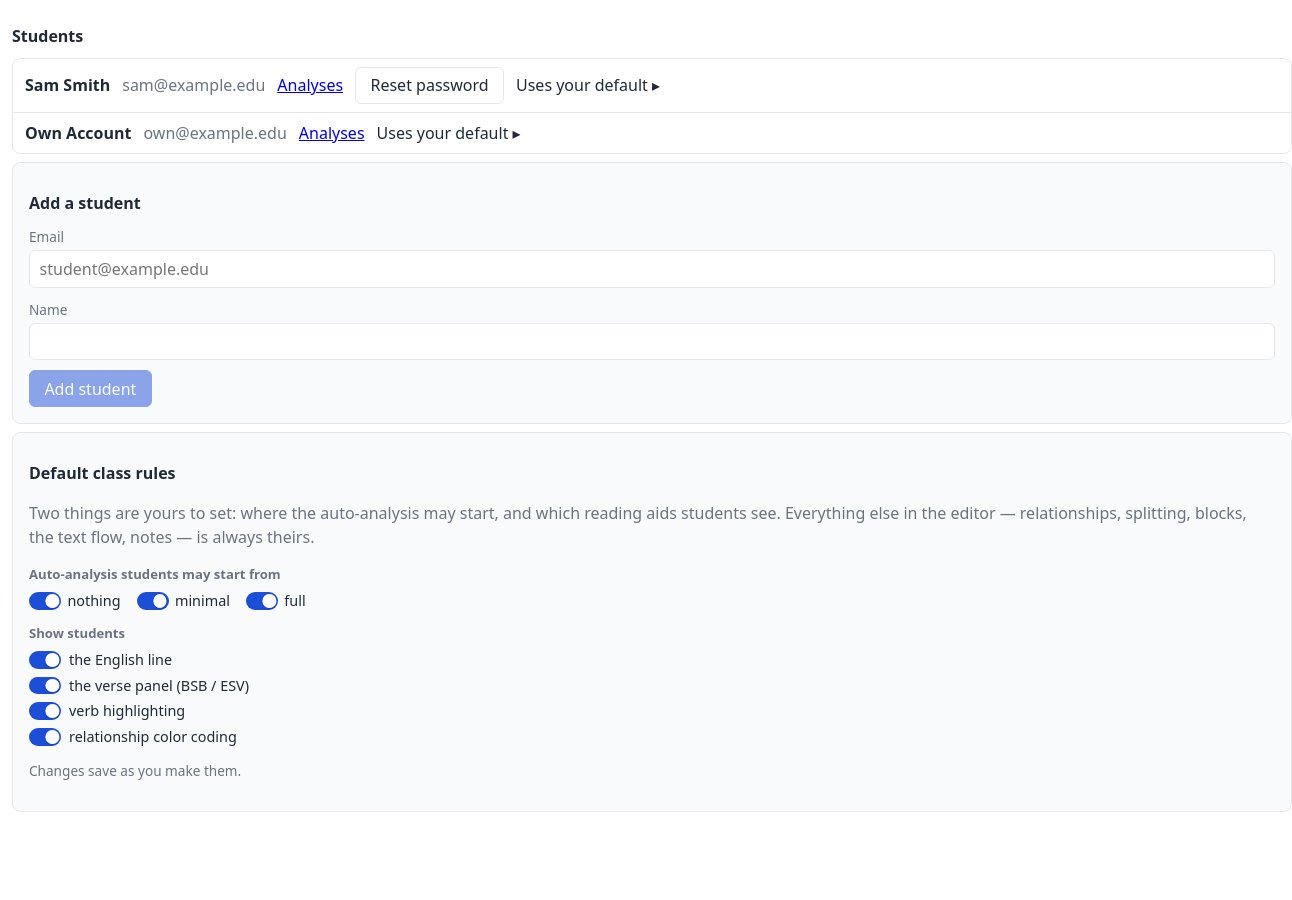
Test: /teach/:id — the policy editor › resets a PROVISIONED student by mail, and offers no reset for their own account
Expected: the text "Own Account" is shown, [25,121,132,145]
Click the button "Reset password": (430, 85) [355,67,504,104]
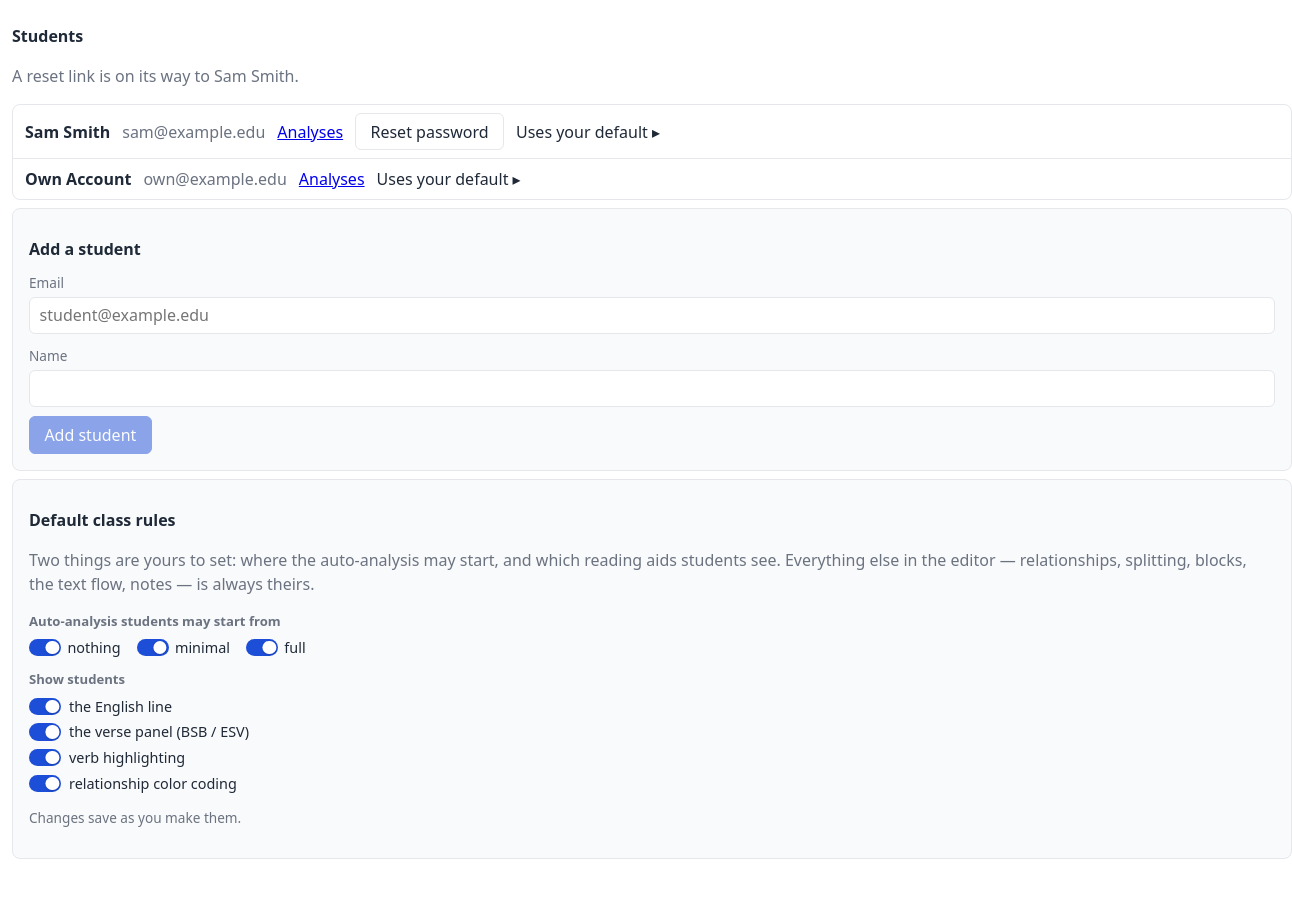
Now the text "A reset link is on its way to Sam Smith." is shown, box [12,65,299,87]
